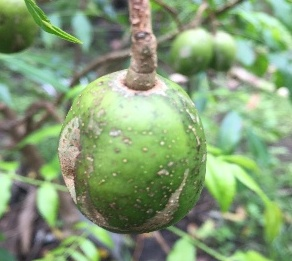Coc: (56, 68, 211, 239)
